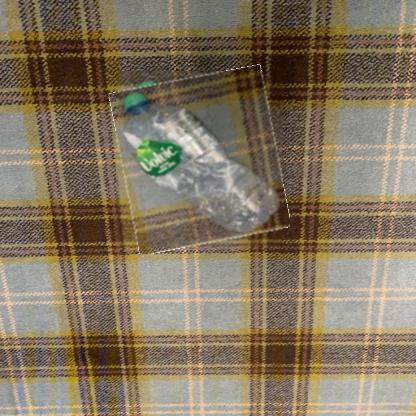plastic-bottles: (118, 72, 286, 249)
